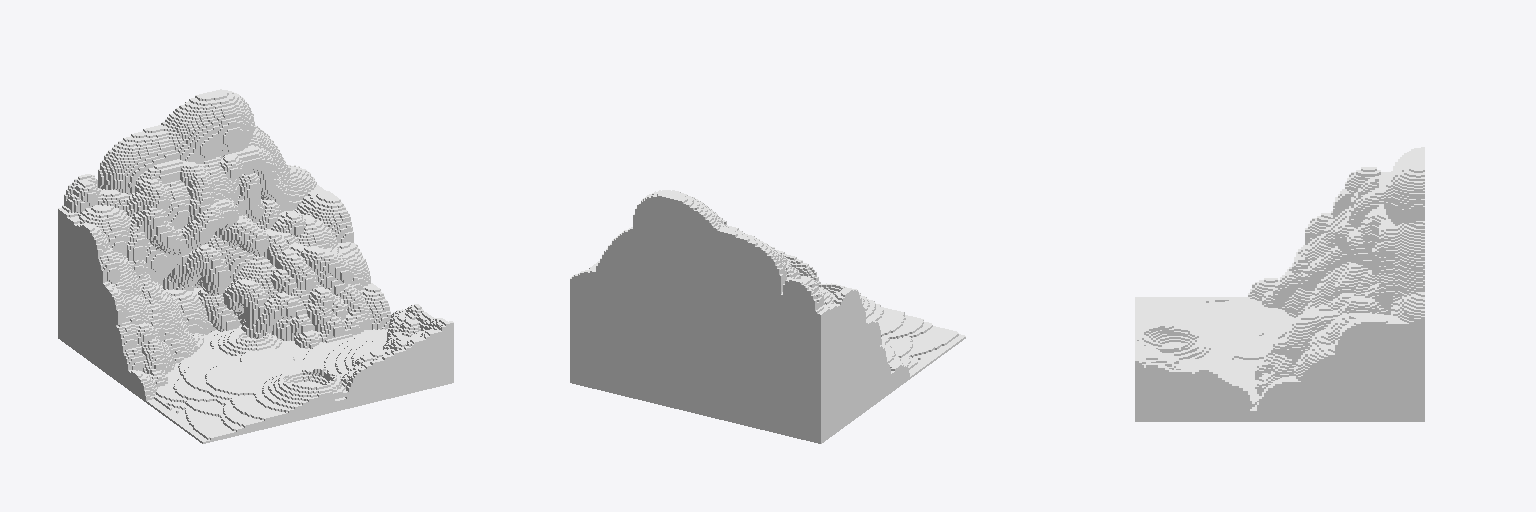
File: Ext_LunarBorder7.obj
3 renders of one model, left to right at view 1: azimuth 30°, elevation 25°; view 2: azimuth 150°, elevation 25°; view 3: azimuth 270°, elevation 25°, orthographic.
Bounding box in the file's own units: 126 × 100 × 126.